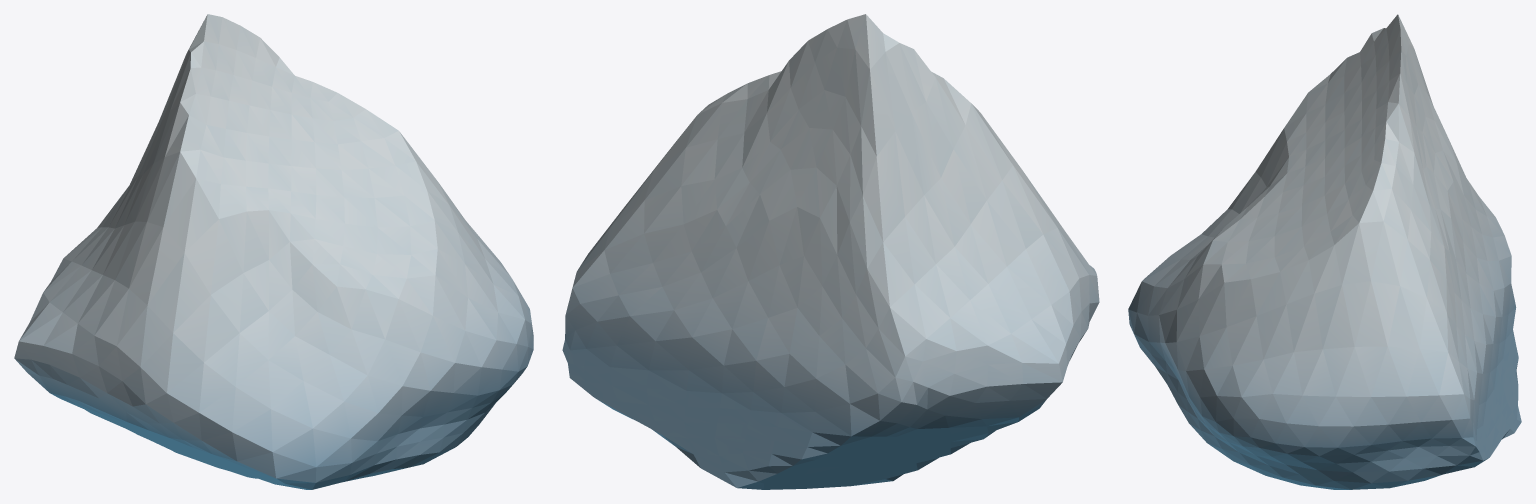
File: iceberg-pinnacle.glb
3 views of the same model, side by side, from view 1: azimuth 30°, elevation 25°; view 2: azimuth 150°, elevation 25°; view 3: azimuth 270°, elevation 25° (orthographic). The views are drawn at different scales.
Visible parts, largest first — view 1: iceberg-pinnacle; view 2: iceberg-pinnacle; view 3: iceberg-pinnacle.
Boxes of the visible parts, left/top/right/bottom form: iceberg-pinnacle: left=14, top=14, right=533, bottom=489; iceberg-pinnacle: left=562, top=14, right=1099, bottom=489; iceberg-pinnacle: left=1128, top=14, right=1521, bottom=489.
Size of the model in its own units: 10 by 9 by 8.
